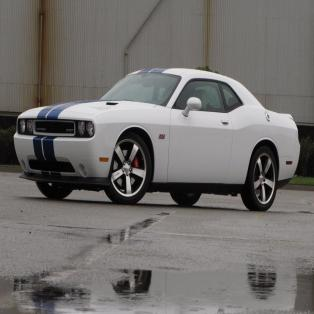Auto: (13, 66, 303, 215)
